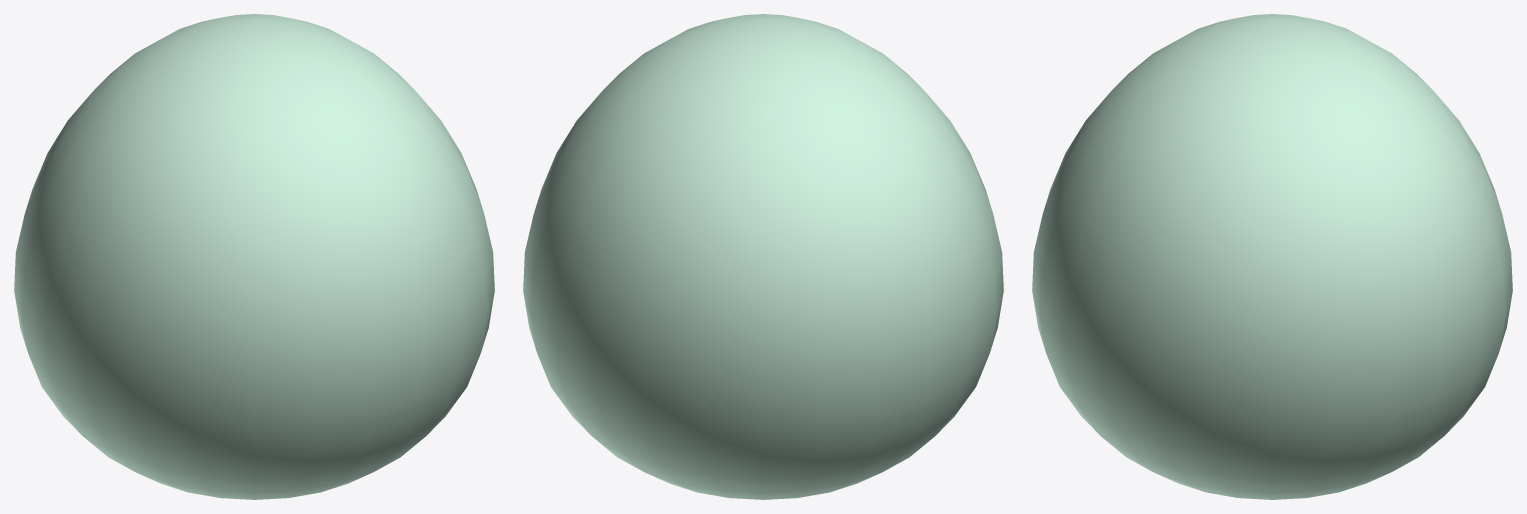
The model's file is pip.glb.
3 views of the same model, side by side, from view 1: azimuth 30°, elevation 25°; view 2: azimuth 150°, elevation 25°; view 3: azimuth 270°, elevation 25° (orthographic).
Visible parts, largest first — view 1: PipClayBody; view 2: PipClayBody; view 3: PipClayBody.
Boxes of the visible parts, <box> form: PipClayBody: <box>14,14,494,499</box>; PipClayBody: <box>523,14,1003,499</box>; PipClayBody: <box>1032,14,1512,499</box>.
Size of the model in its own units: 1.97 by 2 by 1.97.
